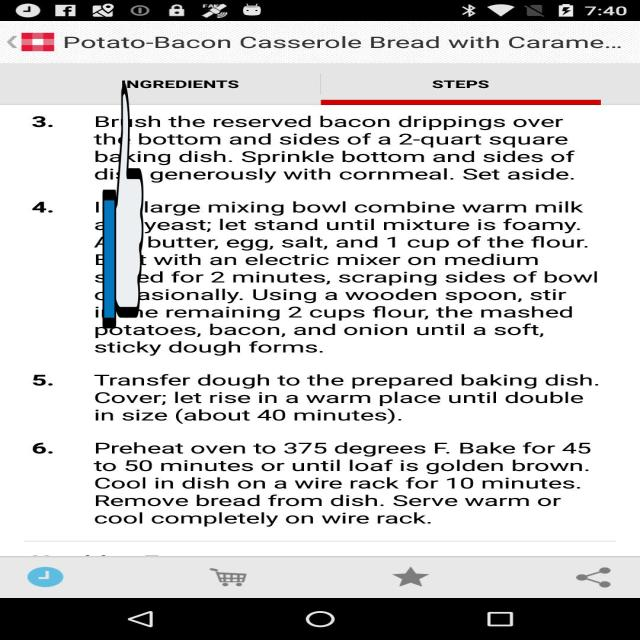privacy zuckering: (102, 78, 144, 334)
